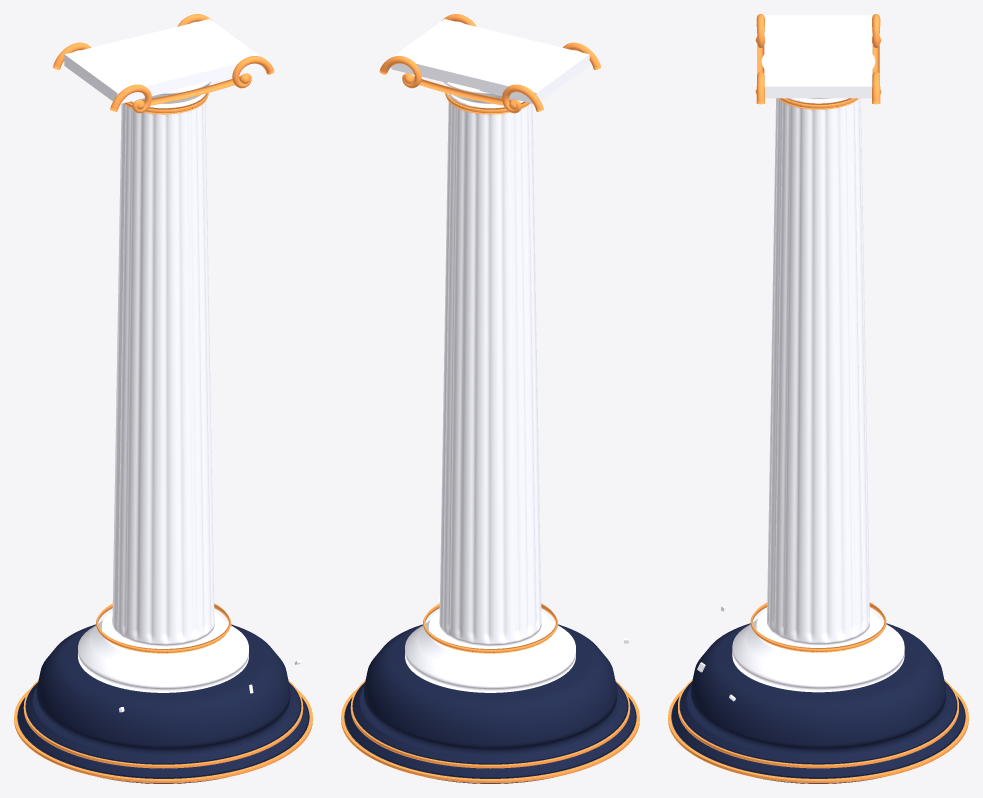
The model's file is experience.glb.
The picture shows the model from 3 angles, left to right: view 1: azimuth 30°, elevation 25°; view 2: azimuth 150°, elevation 25°; view 3: azimuth 270°, elevation 25°; orthographic projection.
Parts seen in each view (by area): view 1: experience; view 2: experience; view 3: experience.
Boxes of the visible parts, left/top/right/bottom form: experience: left=14, top=14, right=312, bottom=783; experience: left=341, top=14, right=639, bottom=783; experience: left=668, top=14, right=968, bottom=783.
Size of the model in its own units: 0.8028 by 2 by 0.8028.
